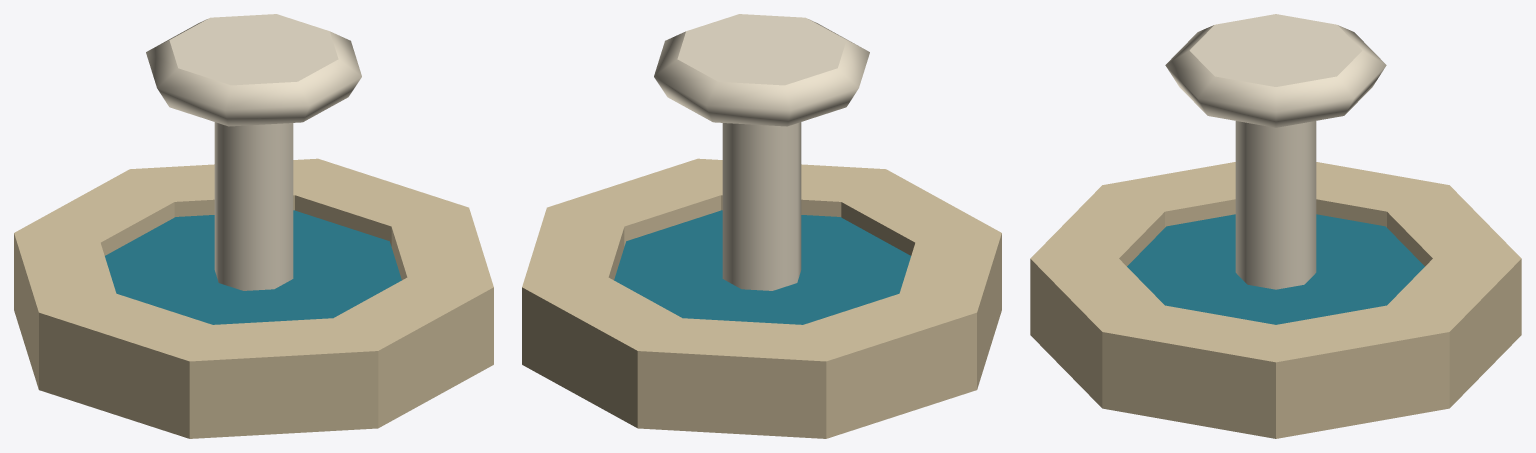
Rendered from decor_courtyard_fountain_LOD2.glb.
The picture shows the model from 3 angles, left to right: view 1: azimuth 30°, elevation 25°; view 2: azimuth 150°, elevation 25°; view 3: azimuth 270°, elevation 25°; orthographic projection.
Visible parts, largest first — view 1: decor_courtyard_fountain_LOD2; view 2: decor_courtyard_fountain_LOD2; view 3: decor_courtyard_fountain_LOD2.
Boxes of the visible parts, <box> form: decor_courtyard_fountain_LOD2: <box>14,14,493,438</box>; decor_courtyard_fountain_LOD2: <box>522,14,1001,438</box>; decor_courtyard_fountain_LOD2: <box>1030,14,1521,438</box>.
Size of the model in its own units: 2.44 by 1.56 by 2.44.
